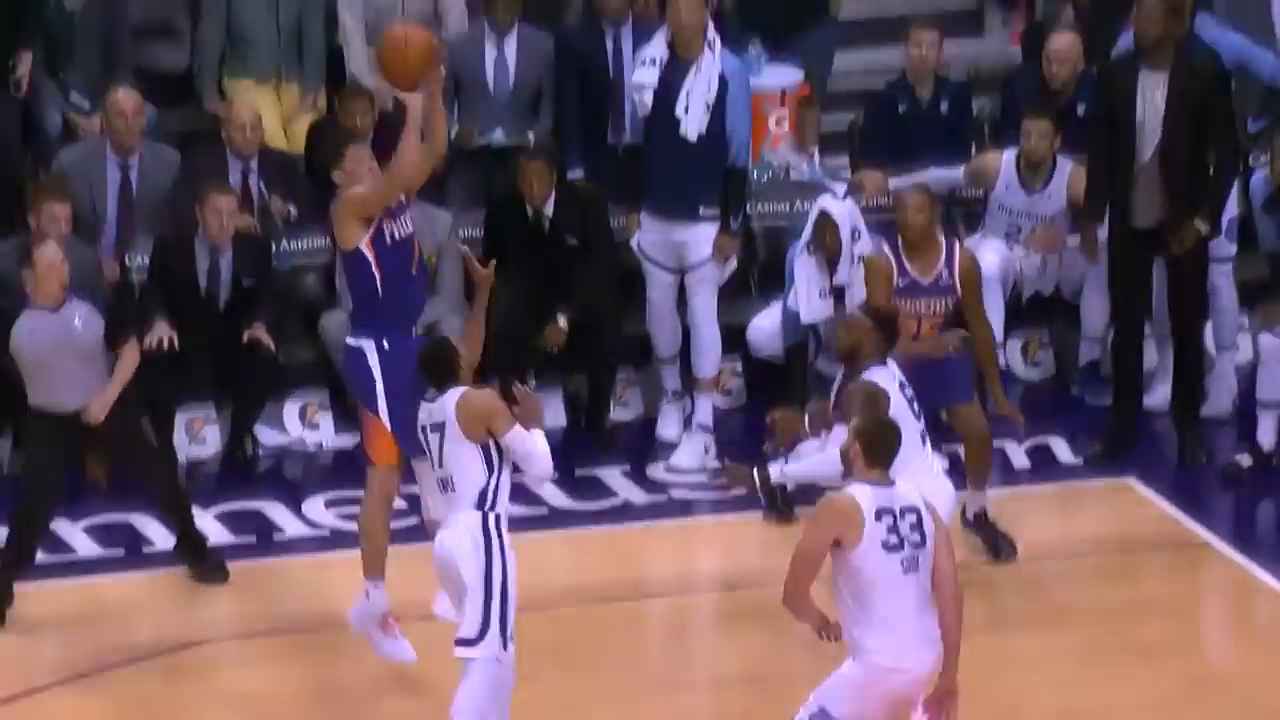ball: (377, 19, 453, 94)
